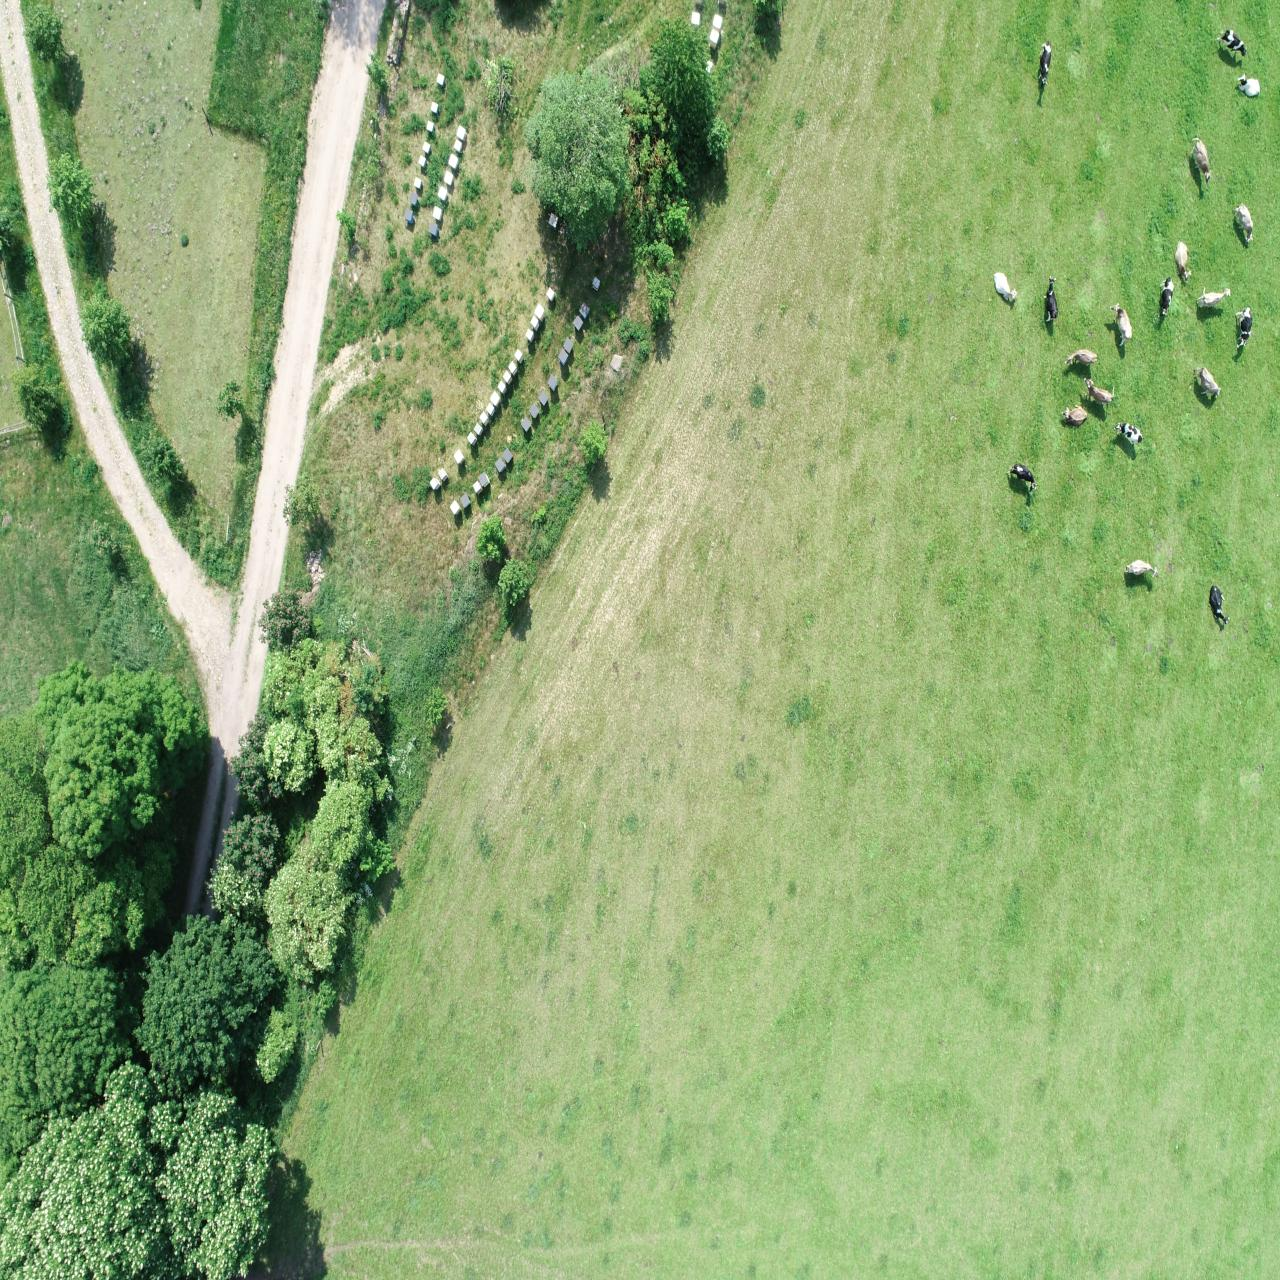cow: (1006, 459, 1040, 501), (1214, 26, 1248, 62), (1191, 365, 1224, 402), (1109, 301, 1135, 348), (1206, 580, 1231, 628), (1189, 137, 1213, 185), (1124, 558, 1162, 588), (1111, 416, 1145, 449), (1232, 202, 1254, 247), (1155, 271, 1175, 320), (1196, 282, 1232, 309), (990, 270, 1017, 305), (1062, 347, 1102, 370), (1173, 239, 1193, 286), (1083, 376, 1115, 406), (1233, 305, 1253, 349), (1042, 272, 1058, 326), (1035, 40, 1053, 89), (1060, 403, 1090, 428), (1235, 72, 1261, 98)
